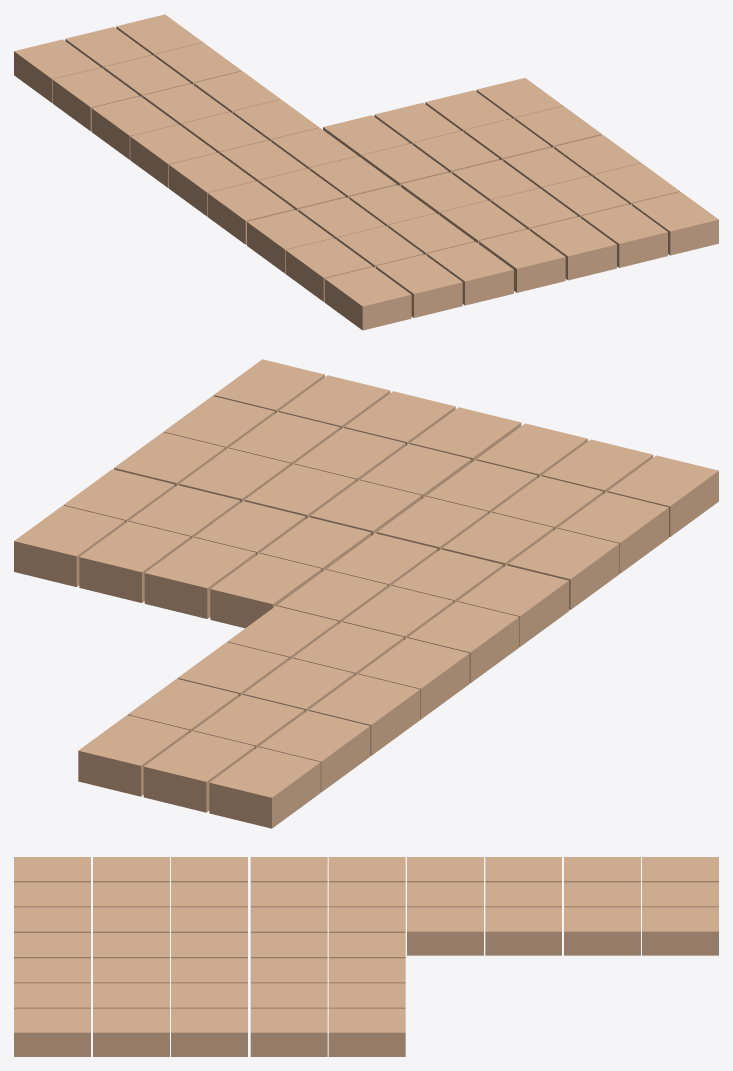
The model's file is Ceiling.fbx.
The picture shows the model from 3 angles, top to bottom: view 1: azimuth 30°, elevation 25°; view 2: azimuth 150°, elevation 25°; view 3: azimuth 270°, elevation 25°; orthographic projection. The views are drawn at different scales.
Parts seen in each view (by area): view 1: Cube.015; view 2: Cube.015; view 3: Cube.015.
Part boxes in pixels (<box>): Cube.015: <box>14,14,718,330</box>; Cube.015: <box>14,359,718,828</box>; Cube.015: <box>14,857,718,1056</box>.
Size of the model in its own units: 1080 by 69.71 by 1832.
